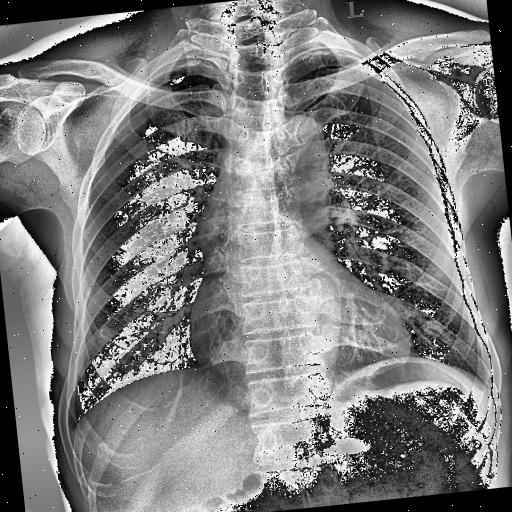0- Aortic enlargement: (174, 106, 344, 263)
3- Cardiomegaly: (171, 232, 417, 397)
9- Other lesion: (87, 320, 117, 351), (92, 327, 114, 342)
